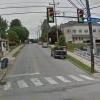Crosswalk: (5, 68, 94, 99)
